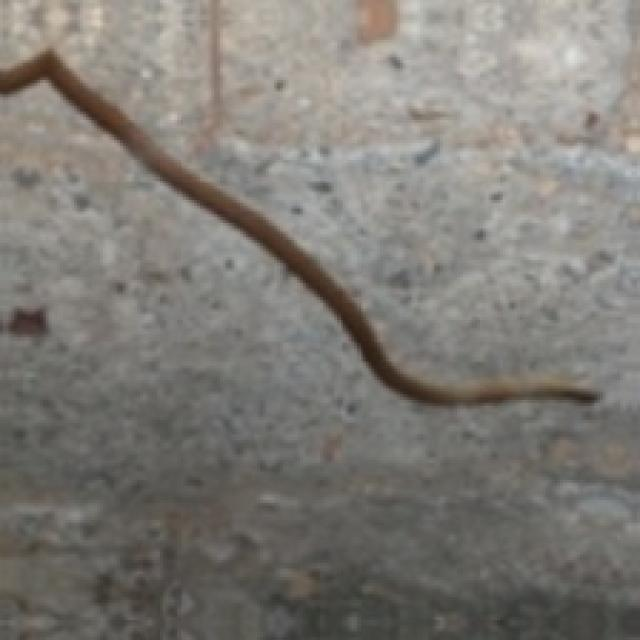gervais worm snake: (0, 46, 597, 403), (0, 49, 597, 403)
